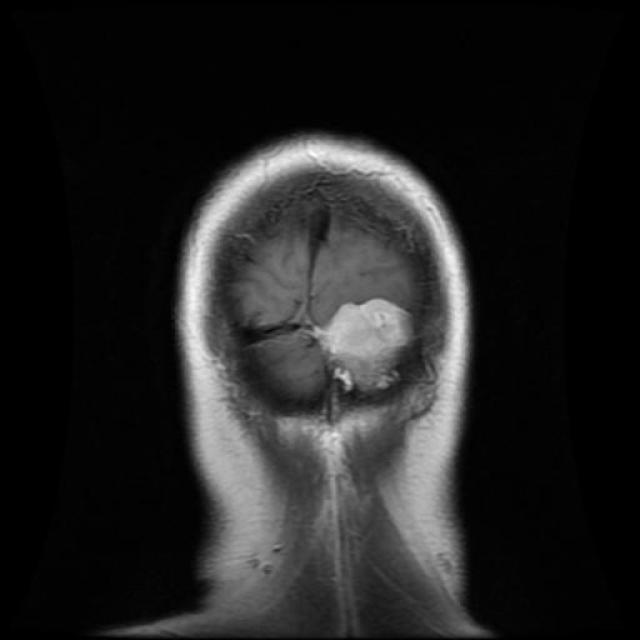meningioma: (314, 299, 412, 391)
